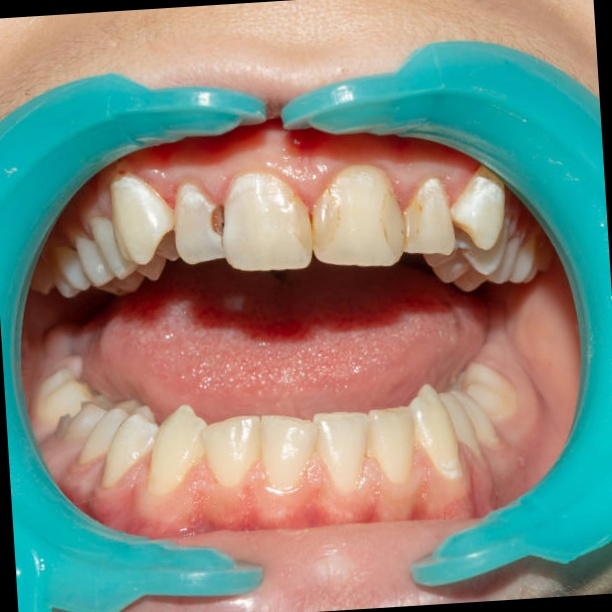Caries: (198, 192, 235, 244)
